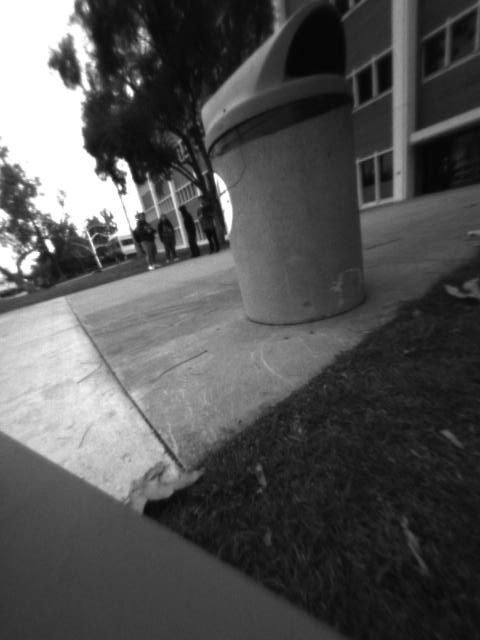trashcan: (196, 1, 385, 327)
